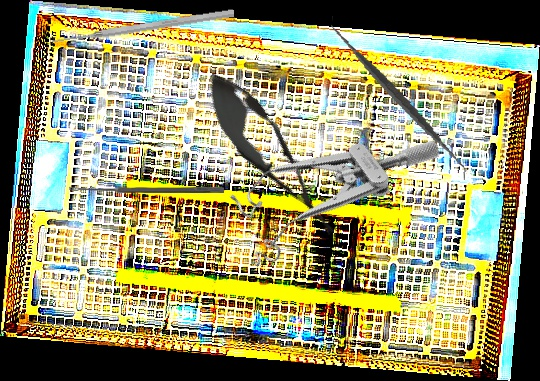Micro Scissor: (189, 60, 353, 249)
Pusher: (51, 6, 235, 48)
Spatula Surgical: (314, 16, 483, 180)
Speculum: (211, 76, 445, 286)
Surgical Spoon: (69, 186, 224, 193)
